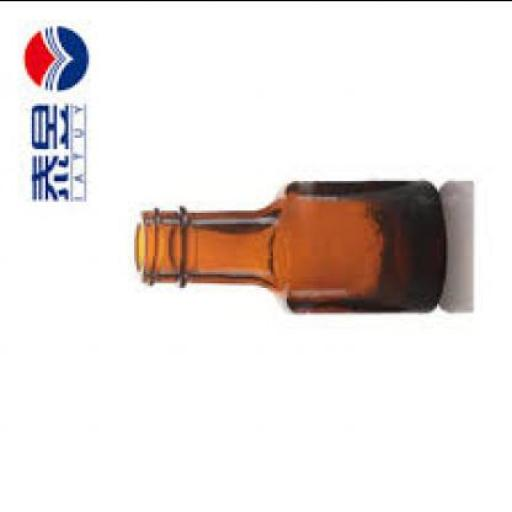glass: (130, 180, 444, 310)
